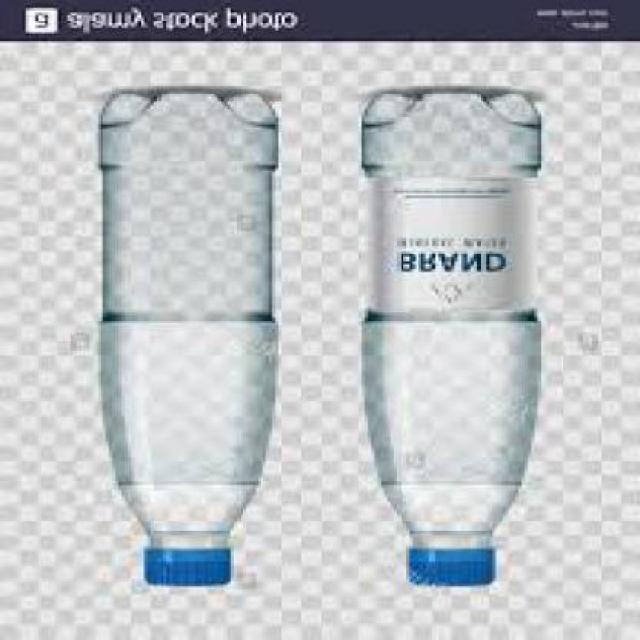PLASTIC: (355, 97, 540, 589), (93, 97, 275, 589), (403, 544, 492, 587), (141, 549, 227, 589)
